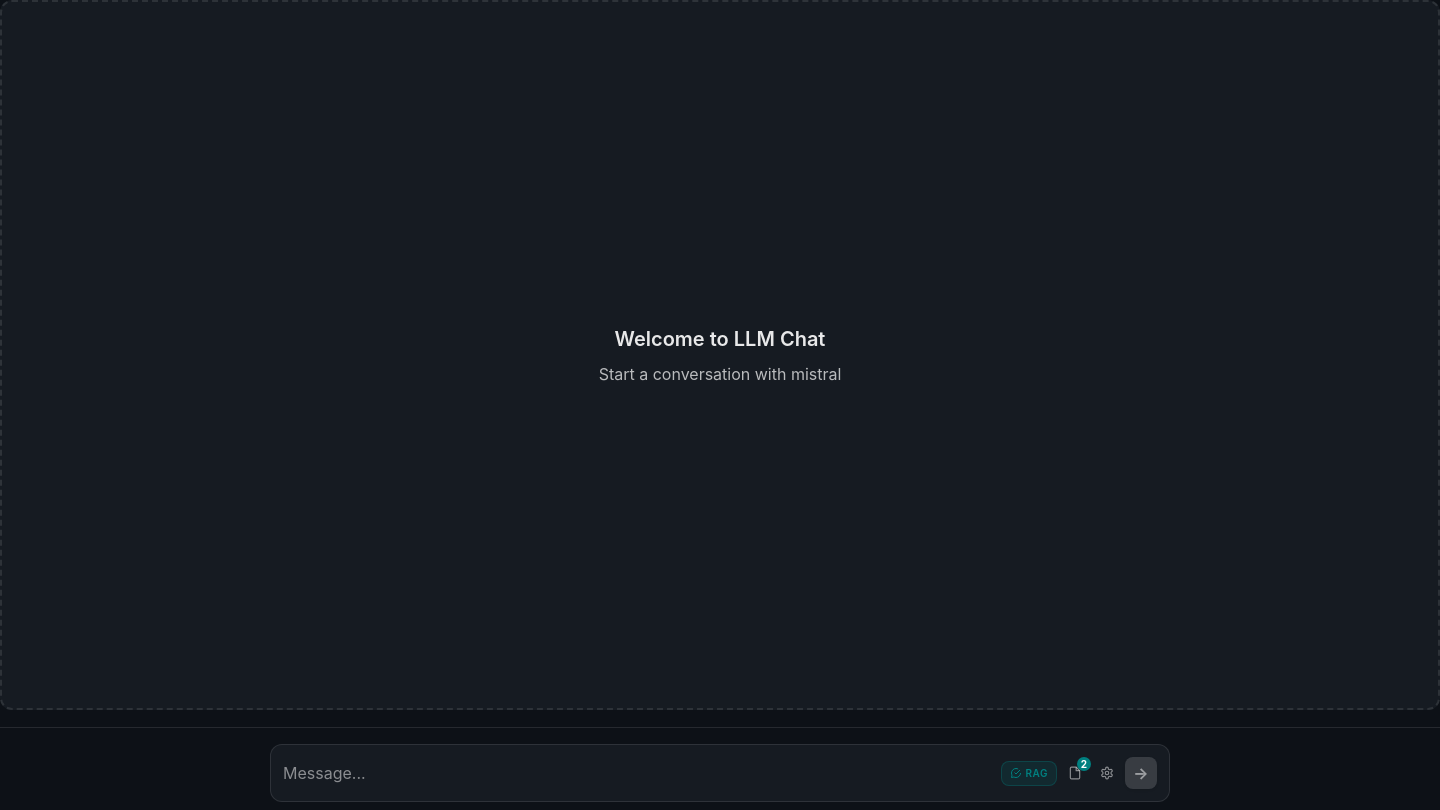
ChatPage RAG Features › Document Management › displays uploaded documents in dropdown
Step 1. Click the button titled "Documents (2)" → [1075, 773], box [1061,759,1089,787]
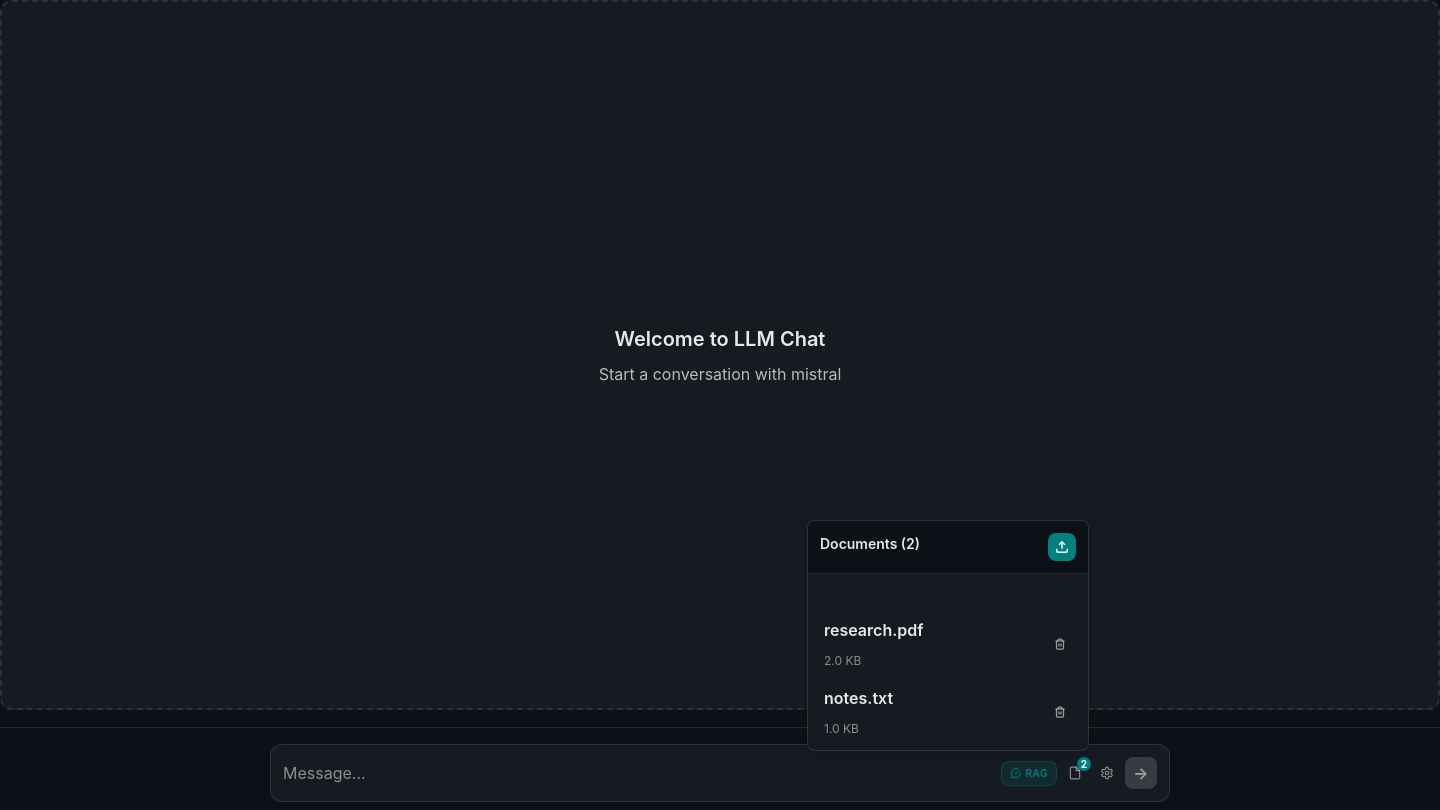
Check: the text "research.pdf" is shown, box [824,620,924,640]
Check: the text "notes.txt" is shown, box [824,688,893,708]
Check: the text "2.0 KB" is shown, box [824,653,861,668]
